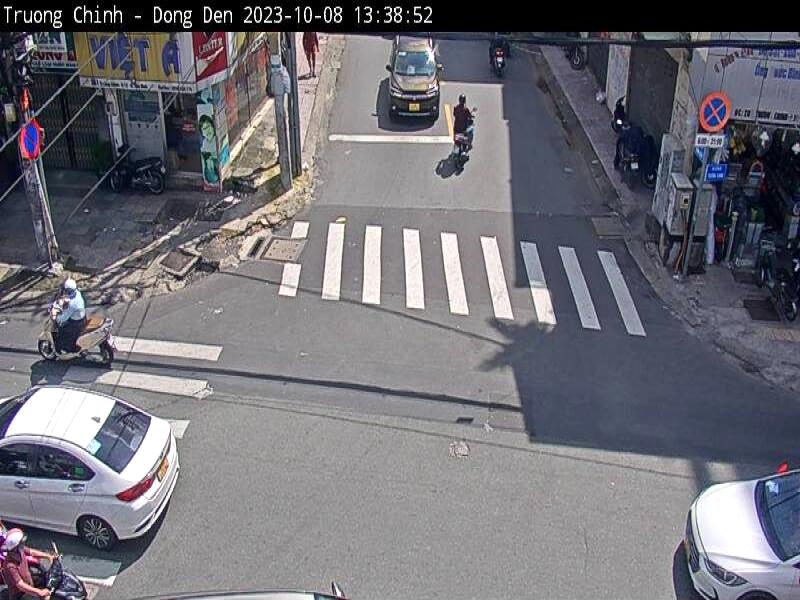car: (0, 387, 182, 547), (683, 467, 800, 600), (390, 34, 442, 124)
motorcycle: (36, 308, 115, 367), (44, 537, 90, 600)
